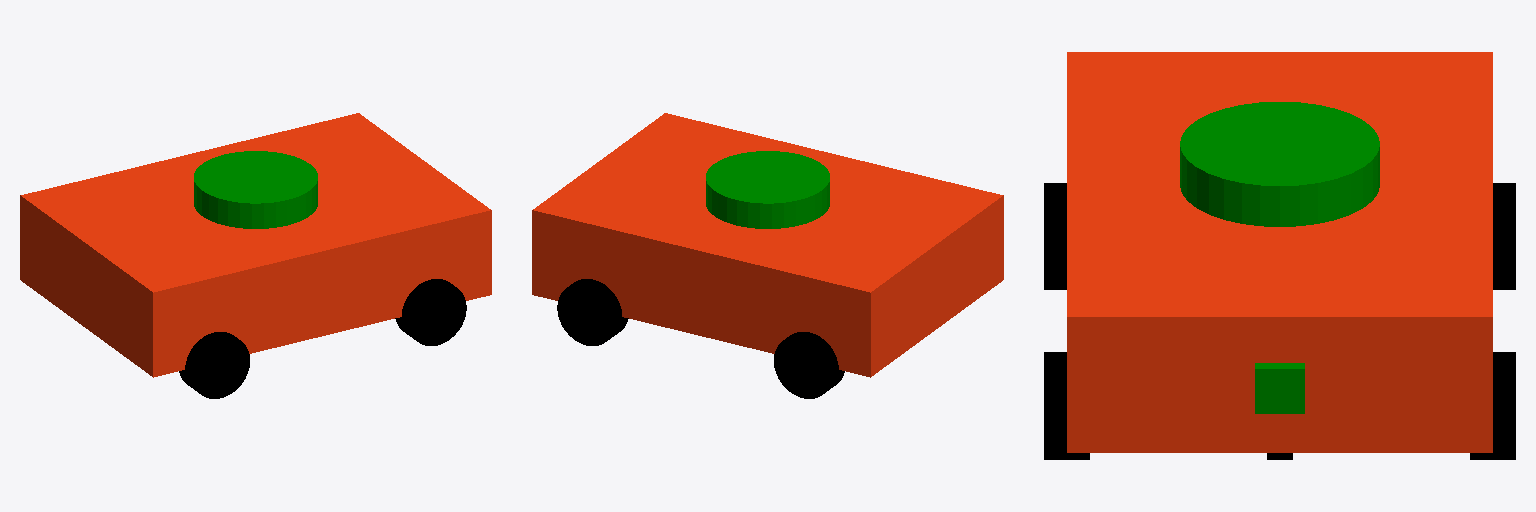
URDF robot description (my_robot):
<?xml version="1.0" ?>
<!-- =================================================================================== -->
<!-- |    This document was autogenerated by xacro from robot.urdf.xacro               | -->
<!-- |    EDITING THIS FILE BY HAND IS NOT RECOMMENDED                                 | -->
<!-- =================================================================================== -->
<robot name="my_robot">
  <material name="grey">
    <color rgba="0.7 0.7 0.7 1"/>
  </material>
  <material name="green">
    <color rgba="0 0.6 0 1"/>
  </material>
  <material name="white">
    <color rgba="1 1 1 1"/>
  </material>
  <material name="black">
    <color rgba="0 0 0 1"/>
  </material>
  <material name="orange">
    <color rgba="1 0.3 0.1 1"/>
  </material>
  <material name="invisible">
    <color rgba="0.0 0.0 0.0 0.0"/>
  </material>
  <!-- <xacro:property name="wheeltrack" value="" -->
  <link name="base_link">
    <collision>
      <origin rpy="0 0 0" xyz="0 0 0"/>
      <geometry>
        <box size="0.25 0.17 0.06"/>
      </geometry>
    </collision>
    <visual>
      <origin rpy="0 0 0" xyz="0 0 0"/>
      <geometry>
        <box size="0.25 0.17 0.06"/>
      </geometry>
      <material name="orange"/>
    </visual>
    <inertial>
      <origin rpy="0 0 0" xyz="0 0 0"/>
      <mass value="1"/>
      <inertia ixx="0.000270" ixy="0.0" ixz="0.0" iyy="0.000270" iyz="0.0" izz="0.000426"/>
    </inertial>
  </link>
  <!-- rear wheels -->
  <!-- virtual rear wheel -->
  <link name="virtual_rear_wheel">
    <visual>
      <origin rpy="1.5707963267948966 0 1.5707963267948966" xyz="0 0 0"/>
      <geometry>
        <cylinder length="0.01" radius="0.0215"/>
      </geometry>
      <material name="invisible"/>
    </visual>
  </link>
  <joint name="virtual_rear_wheel_joint" type="continuous">
    <parent link="base_link"/>
    <child link="virtual_rear_wheel"/>
    <origin rpy="0 0 1.5707963267948966" xyz="-0.08 0 -0.03"/>
    <axis rpy="0 0 0" xyz="1 0 0"/>
    <limit effort="100.0" velocity="100.0"/>
    <dynamics damping="0.2"/>
  </joint>
  <!-- rear right wheel -->
  <link name="rear_right_wheel">
    <collision>
      <origin rpy="1.5707963267948966 0 1.5707963267948966" xyz="0 0 0"/>
      <geometry>
        <cylinder length="0.018" radius="0.0215"/>
      </geometry>
    </collision>
    <visual>
      <origin rpy="1.5707963267948966 0 1.5707963267948966" xyz="0 0 0"/>
      <geometry>
        <cylinder length="0.018" radius="0.0215"/>
      </geometry>
      <material name="black"/>
    </visual>
    <inertial>
      <origin rpy="1.5707963267948966 0 1.5707963267948966" xyz="0 0 0"/>
      <mass value="0.1"/>
      <inertia ixx="0.000270" ixy="0.0" ixz="0.0" iyy="0.000270" iyz="0.0" izz="0.000426"/>
    </inertial>
  </link>
  <joint name="rear_right_wheel_joint" type="continuous">
    <parent link="base_link"/>
    <child link="rear_right_wheel"/>
    <origin rpy="0 0 1.5707963267948966" xyz="-0.08 0.085 -0.03"/>
    <axis rpy="0 0 0" xyz="1 0 0"/>
    <limit effort="100.0" velocity="100.0"/>
    <dynamics damping="0.2"/>
    <mimic joint="virtual_rear_wheel_joint" multiplier="1.0" offset="0.0"/>
  </joint>
  <!-- rear left wheel -->
  <link name="rear_left_wheel">
    <collision>
      <origin rpy="1.5707963267948966 0 1.5707963267948966" xyz="0 0 0"/>
      <geometry>
        <cylinder length="0.018" radius="0.0215"/>
      </geometry>
    </collision>
    <visual>
      <origin rpy="1.5707963267948966 0 1.5707963267948966" xyz="0 0 0"/>
      <geometry>
        <cylinder length="0.018" radius="0.0215"/>
      </geometry>
      <material name="black"/>
    </visual>
    <inertial>
      <origin rpy="1.5707963267948966 0 1.5707963267948966" xyz="0 0 0"/>
      <mass value="0.1"/>
      <inertia ixx="0.000270" ixy="0.0" ixz="0.0" iyy="0.000270" iyz="0.0" izz="0.000426"/>
    </inertial>
  </link>
  <joint name="rear_left_wheel_joint" type="continuous">
    <parent link="base_link"/>
    <child link="rear_left_wheel"/>
    <origin rpy="0 0 1.5707963267948966" xyz="-0.08 -0.085 -0.03"/>
    <axis rpy="0 0 0" xyz="1 0 0"/>
    <limit effort="100.0" velocity="100.0"/>
    <dynamics damping="0.2"/>
    <mimic joint="virtual_rear_wheel_joint" multiplier="1.0" offset="0.0"/>
  </joint>
  <!-- front wheels -->
  <!-- virtual front wheel -->
  <link name="virtual_front_wheel">
    <visual>
      <origin rpy="1.5707963267948966 0 1.5707963267948966" xyz="0 0 0"/>
      <geometry>
        <cylinder length="0.01" radius="0.0215"/>
      </geometry>
      <material name="invisible"/>
    </visual>
  </link>
  <joint name="virtual_front_wheel_joint" type="revolute">
    <parent link="base_link"/>
    <child link="virtual_front_wheel"/>
    <origin rpy="0 0 1.5707963267948966" xyz="0.08 0 -0.03"/>
    <axis xyz="0 0 1"/>
    <limit effort="100.0" lower="-0.7853" upper="0.7853" velocity="100.0"/>
    <dynamics damping="0.2"/>
  </joint>
  <!-- front right wheel -->
  <link name="front_right_wheel">
    <collision>
      <origin rpy="1.5707963267948966 0 1.5707963267948966" xyz="0 0 0"/>
      <geometry>
        <cylinder length="0.018" radius="0.0215"/>
      </geometry>
    </collision>
    <visual>
      <origin rpy="1.5707963267948966 0 1.5707963267948966" xyz="0 0 0"/>
      <geometry>
        <cylinder length="0.018" radius="0.0215"/>
      </geometry>
      <material name="black"/>
    </visual>
    <inertial>
      <origin rpy="1.5707963267948966 0 1.5707963267948966" xyz="0 0 0"/>
      <mass value="0.1"/>
      <inertia ixx="0.000270" ixy="0.0" ixz="0.0" iyy="0.000270" iyz="0.0" izz="0.000426"/>
    </inertial>
  </link>
  <joint name="front_right_wheel_joint" type="revolute">
    <parent link="base_link"/>
    <child link="front_right_wheel"/>
    <origin rpy="0 0 1.5707963267948966" xyz="0.08 0.085 -0.03"/>
    <axis xyz="0 0 1"/>
    <limit effort="100.0" lower="-0.7853" upper="0.7853" velocity="100.0"/>
    <dynamics damping="0.2"/>
    <mimic joint="virtual_front_wheel_joint" multiplier="1.0" offset="0.0"/>
  </joint>
  <link name="front_left_wheel">
    <collision>
      <origin rpy="1.5707963267948966 0 1.5707963267948966" xyz="0 0 0"/>
      <geometry>
        <cylinder length="0.018" radius="0.0215"/>
      </geometry>
    </collision>
    <visual>
      <origin rpy="1.5707963267948966 0 1.5707963267948966" xyz="0 0 0"/>
      <geometry>
        <cylinder length="0.018" radius="0.0215"/>
      </geometry>
      <material name="black"/>
    </visual>
    <inertial>
      <origin rpy="1.5707963267948966 0 1.5707963267948966" xyz="0 0 0"/>
      <mass value="0.1"/>
      <inertia ixx="0.000270" ixy="0.0" ixz="0.0" iyy="0.000270" iyz="0.0" izz="0.000426"/>
    </inertial>
  </link>
  <joint name="front_left_wheel_joint" type="revolute">
    <parent link="base_link"/>
    <child link="front_left_wheel"/>
    <origin rpy="0 0 1.5707963267948966" xyz="0.08 -0.085 -0.03"/>
    <axis xyz="0 0 1"/>
    <limit effort="100.0" lower="-0.7853" upper="0.7853" velocity="100.0"/>
    <dynamics damping="0.2"/>
    <mimic joint="virtual_front_wheel_joint" multiplier="1.0" offset="0.0"/>
  </joint>
  <ros2_control name="RobotControl" type="system">
    <hardware>
      <plugin>bicdrive_arduino/CarlikeBotSystemHardware</plugin>
      <param name="front_wheel_name">virtual_front_wheel_joint</param>
      <param name="rear_wheel_name">virtual_rear_wheel_joint</param>
      <param name="loop_rate">30</param>
      <!-- <param name="device">/dev/serial/by-path/platform-3610000.usb-usb-0:2.1:1.0-port0</param> -->
      <param name="device">/dev/serial/by-path/pci-0000:00:14.0-usb-0:4:1.0-port0</param>
      <param name="baud_rate">9600</param>
      <param name="timeout_ms">1000</param>
    </hardware>
    <joint name="virtual_front_wheel_joint">
      <command_interface name="position"/>
      <state_interface name="position"/>
    </joint>
    <joint name="virtual_rear_wheel_joint">
      <command_interface name="velocity"/>
      <state_interface name="velocity"/>
    </joint>
  </ros2_control>
  <joint name="laser_joint" type="fixed">
    <parent link="base_link"/>
    <child link="laser_frame"/>
    <origin rpy="0 0 0" xyz="0 0 0.038"/>
  </joint>
  <link name="laser_frame">
    <collision>
      <geometry>
        <cylinder length="0.02" radius="0.04"/>
      </geometry>
    </collision>
    <visual>
      <geometry>
        <cylinder length="0.02" radius="0.04"/>
      </geometry>
      <material name="green"/>
    </visual>
    <inertial>
      <origin rpy="0 0 0" xyz="0 0 0"/>
      <mass value="1.0"/>
      <inertia ixx="0.0004333333333333333" ixy="0.0" ixz="0.0" iyy="0.0004333333333333333" iyz="0.0" izz="0.0008"/>
    </inertial>
  </link>
  <gazebo reference="laser_frame">
    <material>Gazebo/Green</material>
    <sensor name="laser" type="ray">
      <pose>0 0 0 0 0 0</pose>
      <visualize>false</visualize>
      <update_rate>10</update_rate>
      <ray>
        <scan>
          <horizontal>
            <samples>360</samples>
            <resolution>1</resolution>
            <min_angle>-3.14</min_angle>
            <max_angle>3.14</max_angle>
          </horizontal>
        </scan>
        <range>
          <min>1</min>
          <max>60</max>
          <resolution>0.01</resolution>
        </range>
      </ray>
      <plugin filename="libgazebo_ros_ray_sensor.so" name="laser_controller">
        <ros>
          <argument>~/out:=scan</argument>
        </ros>
        <output_type>sensor_msgs/LaserScan</output_type>
        <frame_name>laser_frame</frame_name>
      </plugin>
    </sensor>
  </gazebo>
  <joint name="camera_joint" type="fixed">
    <parent link="base_link"/>
    <child link="camera_link"/>
    <origin rpy="0 0 0" xyz="0.128 0 0"/>
  </joint>
  <link name="camera_link">
    <visual>
      <geometry>
        <box size="0.006 0.02 0.02"/>
      </geometry>
      <material name="green"/>
    </visual>
  </link>
  <joint name="camera_optical_joint" type="fixed">
    <parent link="camera_link"/>
    <child link="camera_link_optical"/>
    <origin rpy="-1.5707963267948966 0 -1.5707963267948966" xyz="0 0 0"/>
  </joint>
  <link name="camera_link_optical"/>
  <gazebo reference="camera_link">
    <material>Gazebo/Green</material>
    <!-- <gravity>true</gravity> -->
    <sensor name="camera" type="depth">
      <pose>0 0 0 0 0 0</pose>
      <visualize>false</visualize>
      <update_rate>10</update_rate>
      <camera>
        <horizontal_fov>1.204</horizontal_fov>
        <image>
          <width>640</width>
          <height>480</height>
          <format>B8G8R8</format>
        </image>
        <clip>
          <near>3</near>
          <far>30.0</far>
        </clip>
      </camera>
      <plugin filename="libgazebo_ros_camera.so" name="camera_controller">
        <frame_name>camera_link_optical</frame_name>
        <min_depth>0.1</min_depth>
        <max_depth>100</max_depth>
      </plugin>
    </sensor>
    <!-- <sensor name="imu_sensor" type="imu">
            <always_on>true</always_on>
            <update_rate>100</update_rate>
            <visualize>true</visualize>
            <topic>__default_topic__</topic>
            <plugin filename="libgazebo_ros_imu_sensor.so" name="imu_plugin">
                <topicName>imu</topicName>
                <bodyName>camera_link</bodyName>
                <updateRateHZ>10.0</updateRateHZ>
                <gaussianNoise>0.0</gaussianNoise>
                <xyzOffset>1 0 0.1</xyzOffset>
                <rpyOffset>0 0 0</rpyOffset>
                <frameName>camera_link</frameName>
            </plugin>
            <pose>0 0 0 0 0 0</pose>
        </sensor> -->
    <!-- <sensor name="imu_sensor" type="imu">
            <plugin filename="libgazebo_ros_imu_sensor.so" name="imu_plugin">
                <ros>
                    <remapping>~/out:=imu</remapping>
                </ros>
                <initial_orientation_as_reference>false</initial_orientation_as_reference>
                </plugin>
                <always_on>true</always_on>
                <update_rate>100</update_rate>
                <visualize>true</visualize>
                <imu>
                <angular_velocity>
                    <x>
                    <noise type="gaussian">
                        <mean>0.0</mean>
                        <stddev>2e-4</stddev>
                        <bias_mean>0.0000075</bias_mean>
                        <bias_stddev>0.0000008</bias_stddev>
                    </noise>
                    </x>
                    <y>
                    <noise type="gaussian">
                        <mean>0.0</mean>
                        <stddev>2e-4</stddev>
                        <bias_mean>0.0000075</bias_mean>
                        <bias_stddev>0.0000008</bias_stddev>
                    </noise>
                    </y>
                    <z>
                    <noise type="gaussian">
                        <mean>0.0</mean>
                        <stddev>2e-4</stddev>
                        <bias_mean>0.0000075</bias_mean>
                        <bias_stddev>0.0000008</bias_stddev>
                    </noise>
                    </z>
                </angular_velocity>
                <linear_acceleration>
                    <x>
                    <noise type="gaussian">
                        <mean>0.0</mean>
                        <stddev>1.7e-2</stddev>
                        <bias_mean>0.1</bias_mean>
                        <bias_stddev>0.001</bias_stddev>
                    </noise>
                    </x>
                    <y>
                    <noise type="gaussian">
                        <mean>0.0</mean>
                        <stddev>1.7e-2</stddev>
                        <bias_mean>0.1</bias_mean>
                        <bias_stddev>0.001</bias_stddev>
                    </noise>
                    </y>
                    <z>
                    <noise type="gaussian">
                        <mean>0.0</mean>
                        <stddev>1.7e-2</stddev>
                        <bias_mean>0.1</bias_mean>
                        <bias_stddev>0.001</bias_stddev>
                    </noise>
                    </z>
                </linear_acceleration>
            </imu>
        </sensor> -->
  </gazebo>
</robot>

--- Render facts (derived) ---
The picture shows the robot from 3 angles, left to right: view 1: azimuth 30°, elevation 25°; view 2: azimuth 150°, elevation 25°; view 3: azimuth 270°, elevation 25°; orthographic projection.
Robot: my_robot — 10 links, 9 joints (3 revolute, 3 continuous, 3 fixed); root link base_link; default pose: all joints at 0.
Links seen in each view (by area): view 1: base_link, laser_frame, rear_left_wheel, front_left_wheel; view 2: base_link, laser_frame, rear_right_wheel, front_right_wheel; view 3: base_link, laser_frame, front_right_wheel, front_left_wheel, camera_link, rear_right_wheel, rear_left_wheel.
Boxes of the visible links, <box> form: base_link: <box>20,113,491,377</box>; laser_frame: <box>194,151,317,228</box>; rear_left_wheel: <box>179,332,249,398</box>; front_left_wheel: <box>395,279,466,345</box>; base_link: <box>532,113,1003,377</box>; laser_frame: <box>706,151,829,228</box>; rear_right_wheel: <box>774,332,844,398</box>; front_right_wheel: <box>557,279,628,345</box>; base_link: <box>1067,52,1492,452</box>; laser_frame: <box>1180,102,1379,226</box>; front_right_wheel: <box>1470,352,1515,459</box>; front_left_wheel: <box>1044,352,1089,459</box>; camera_link: <box>1255,363,1304,413</box>; rear_right_wheel: <box>1493,183,1515,289</box>; rear_left_wheel: <box>1044,183,1066,289</box>.
Size in the robot's own frame: 0.256 by 0.188 by 0.0995 metres.
Geometry: primitives only (box / cylinder / sphere), no mesh files.
